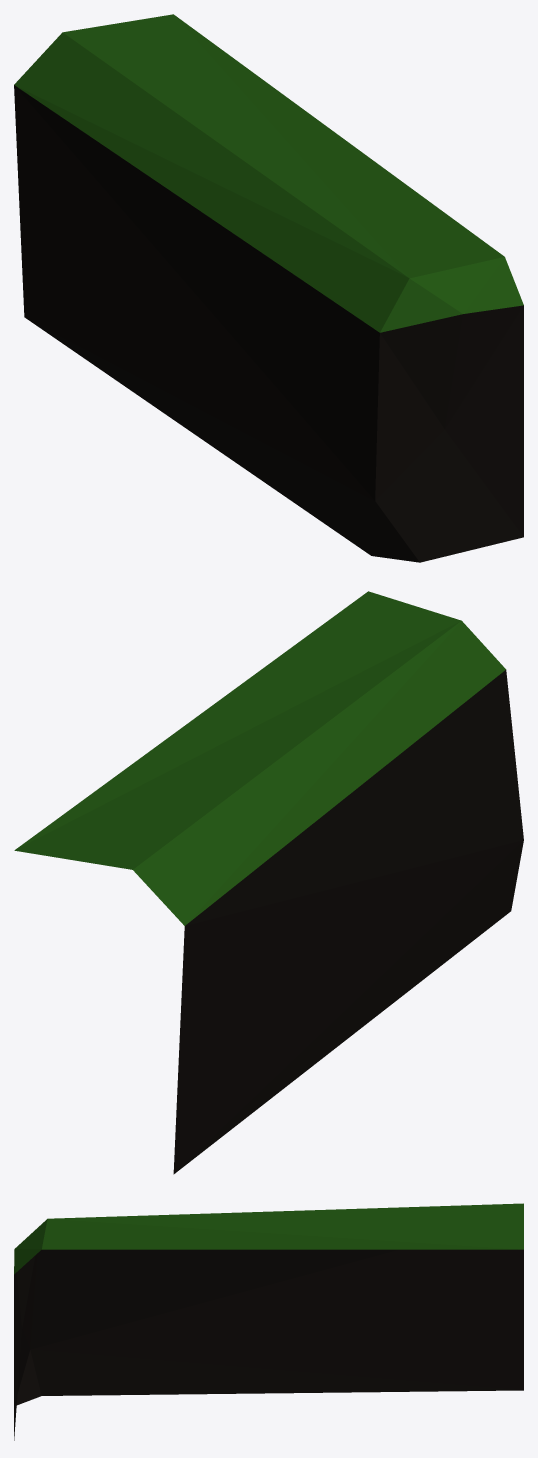
File: 2D_Ground_Top_EndL.fbx
3 views of the same model, one above another, from view 1: azimuth 30°, elevation 25°; view 2: azimuth 150°, elevation 25°; view 3: azimuth 270°, elevation 25° (orthographic). The views are drawn at different scales.
Visible parts, largest first — view 1: 2D_Ground_Top_EndL; view 2: 2D_Ground_Top_EndL; view 3: 2D_Ground_Top_EndL.
Boxes of the visible parts, box(x1,y1,x2,y2) form: 2D_Ground_Top_EndL: box(14, 14, 523, 562); 2D_Ground_Top_EndL: box(14, 591, 523, 1174); 2D_Ground_Top_EndL: box(14, 1203, 523, 1440).
Size of the model in its own units: 228 by 376 by 867.
